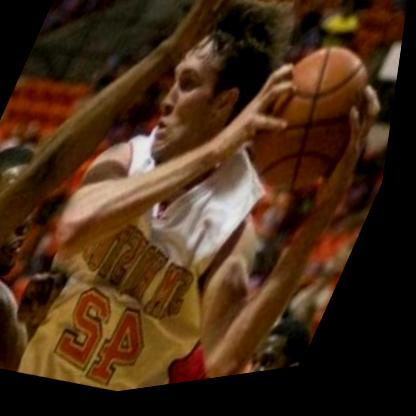basketball: (232, 32, 403, 222)
